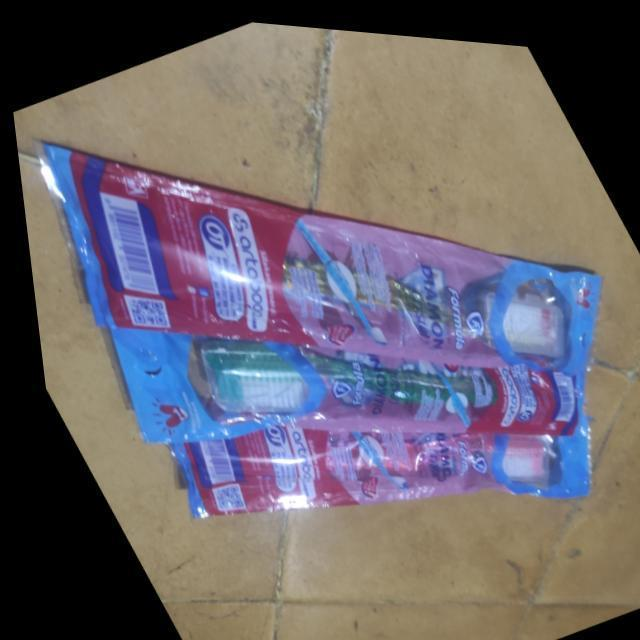toothbrush: (158, 216, 558, 339), (169, 337, 537, 415), (206, 422, 544, 492)
